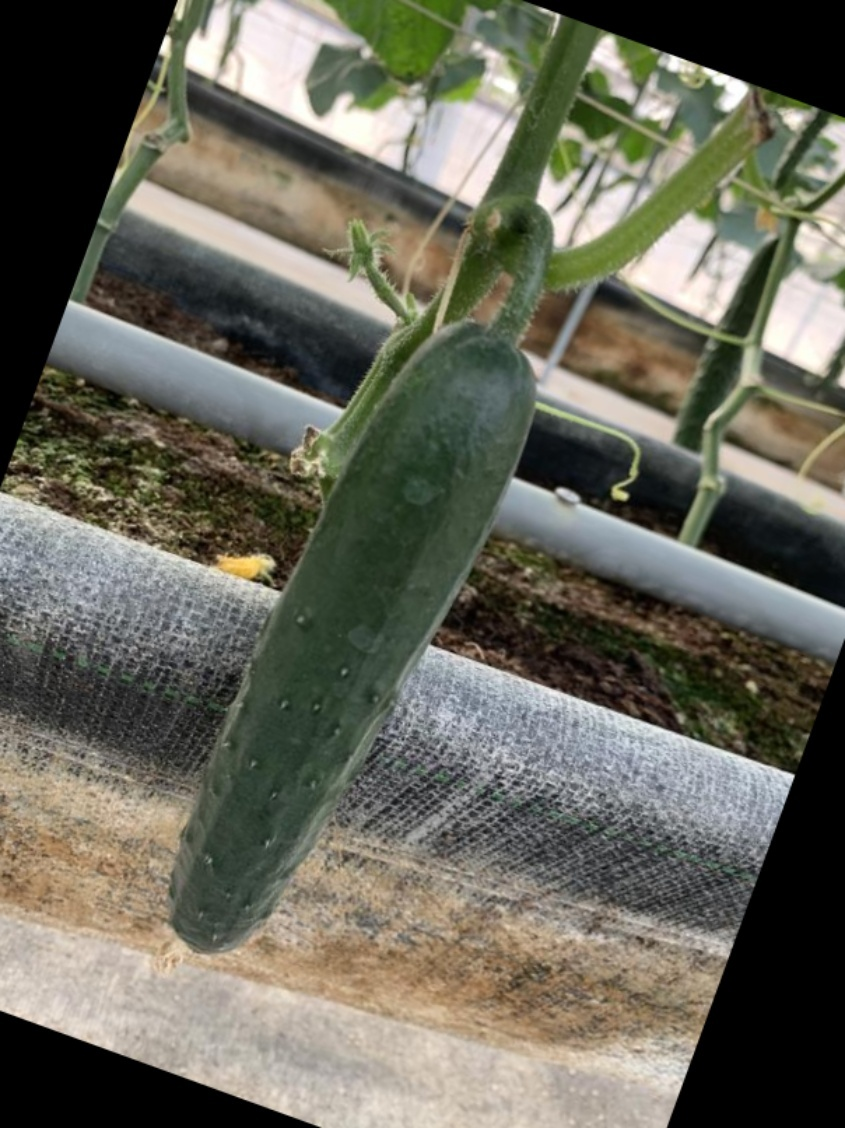mature: (161, 309, 563, 962)
